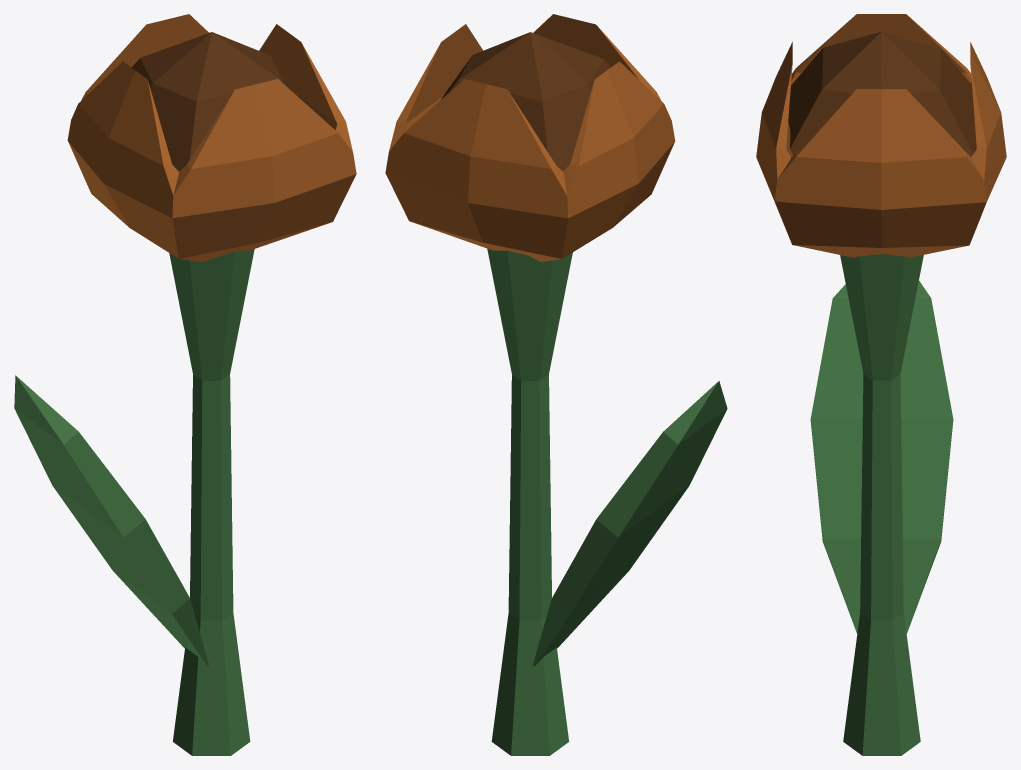
The model's file is Flower_3_Orange.fbx.
The picture shows the model from 3 angles, left to right: view 1: azimuth 30°, elevation 25°; view 2: azimuth 150°, elevation 25°; view 3: azimuth 270°, elevation 25°; orthographic projection.
Parts seen in each view (by area): view 1: Flower_3_Orange_Part_2, Flower_3_Orange_Part_1, Flower_3_Orange_Part_3; view 2: Flower_3_Orange_Part_2, Flower_3_Orange_Part_1, Flower_3_Orange_Part_3; view 3: Flower_3_Orange_Part_1, Flower_3_Orange_Part_2, Flower_3_Orange_Part_3.
Part boxes in pixels (left/top/right/bottom): Flower_3_Orange_Part_2: left=67, top=14, right=356, bottom=262; Flower_3_Orange_Part_1: left=14, top=249, right=254, bottom=755; Flower_3_Orange_Part_3: left=131, top=32, right=299, bottom=171; Flower_3_Orange_Part_2: left=385, top=14, right=675, bottom=261; Flower_3_Orange_Part_1: left=487, top=248, right=727, bottom=755; Flower_3_Orange_Part_3: left=441, top=32, right=610, bottom=171; Flower_3_Orange_Part_1: left=810, top=254, right=953, bottom=755; Flower_3_Orange_Part_2: left=756, top=14, right=1006, bottom=257; Flower_3_Orange_Part_3: left=788, top=31, right=976, bottom=156.
Bounding box in the file's own units: 24.43 × 55 × 17.59.
